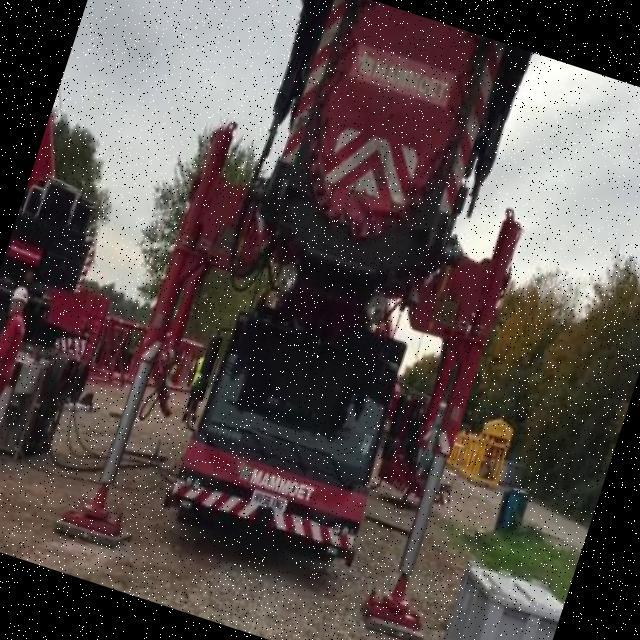Mobile Crane: (59, 0, 594, 640)
